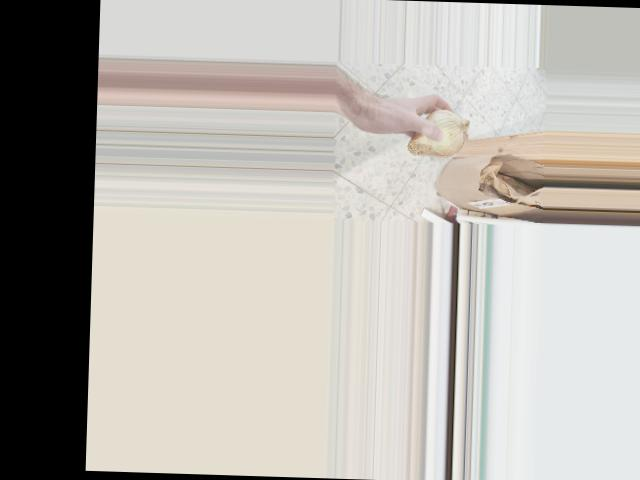onion: (403, 101, 472, 161)
